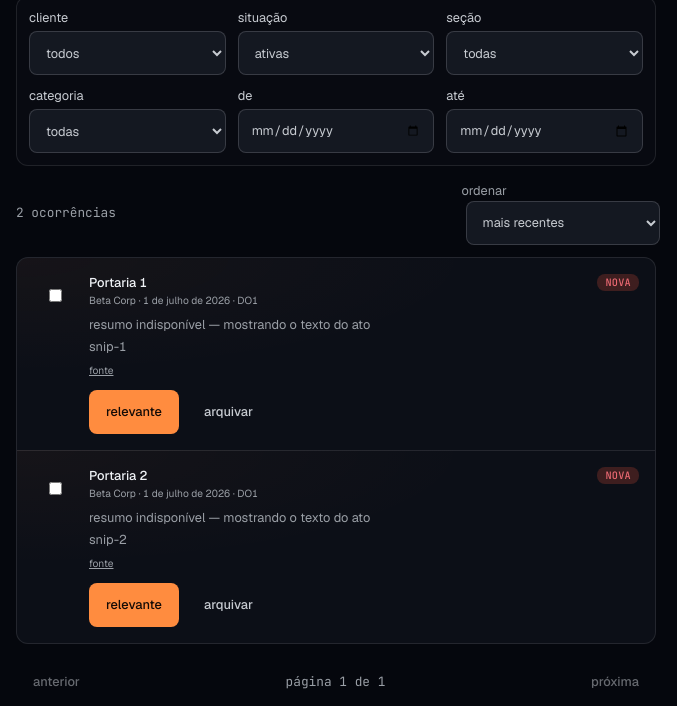
Scenario: triaging within the active filter leaves the count alone
(page scrolled)
Check: the text "snip-1" is shown, box 89,338 -> 127,355
Click the button "relevante" below "snip-1" at (134, 412), box 89,390 -> 179,434
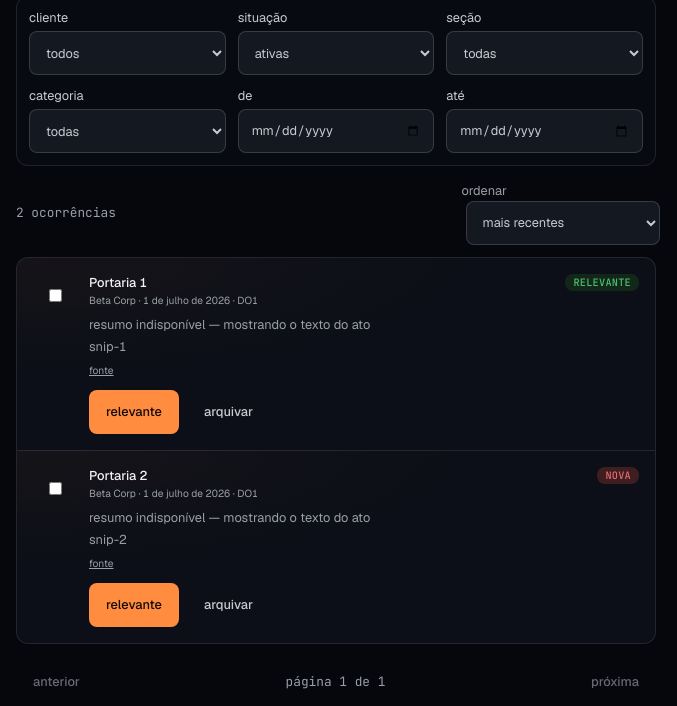
Check: the text "2 ocorrências" is shown, box 16,204 -> 116,223
Check: the text "relevante" is shown, box 565,274 -> 639,291
